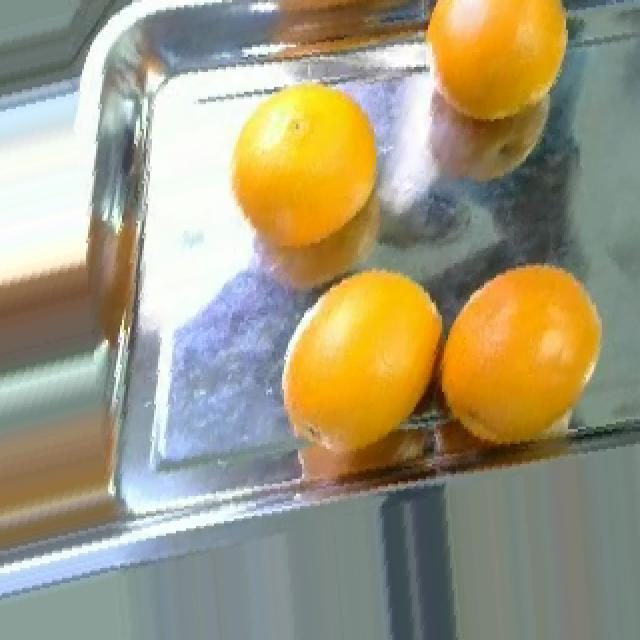Good_Orange: (440, 265, 602, 447), (282, 270, 444, 451), (230, 84, 378, 248)
